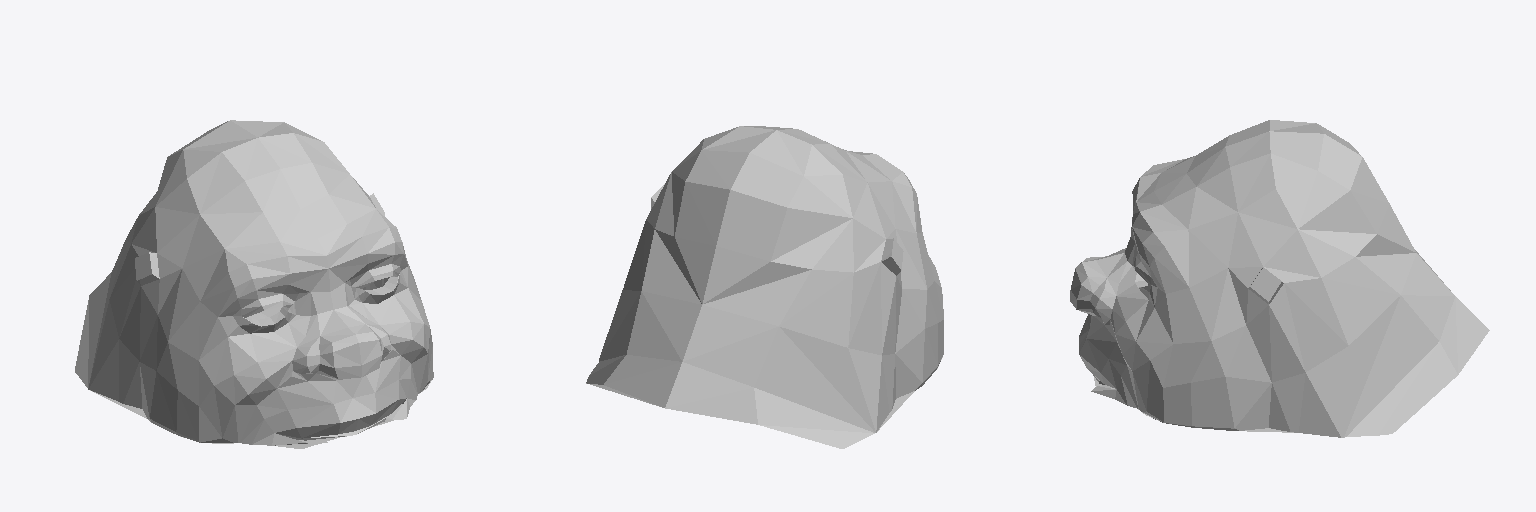
Rendered from sh_oreja_head.obj.
The picture shows the model from 3 angles: view 1: azimuth 30°, elevation 25°; view 2: azimuth 150°, elevation 25°; view 3: azimuth 270°, elevation 25°; orthographic projection.
Visible parts, largest first — view 1: Shrek.003; view 2: Shrek.003; view 3: Shrek.003.
Boxes of the visible parts, x1=… form: Shrek.003: x1=75, y1=120, x2=433, y2=448; Shrek.003: x1=586, y1=126, x2=943, y2=448; Shrek.003: x1=1070, y1=120, x2=1489, y2=437.
Size of the model in its own units: 22.75 by 19.39 by 29.96.